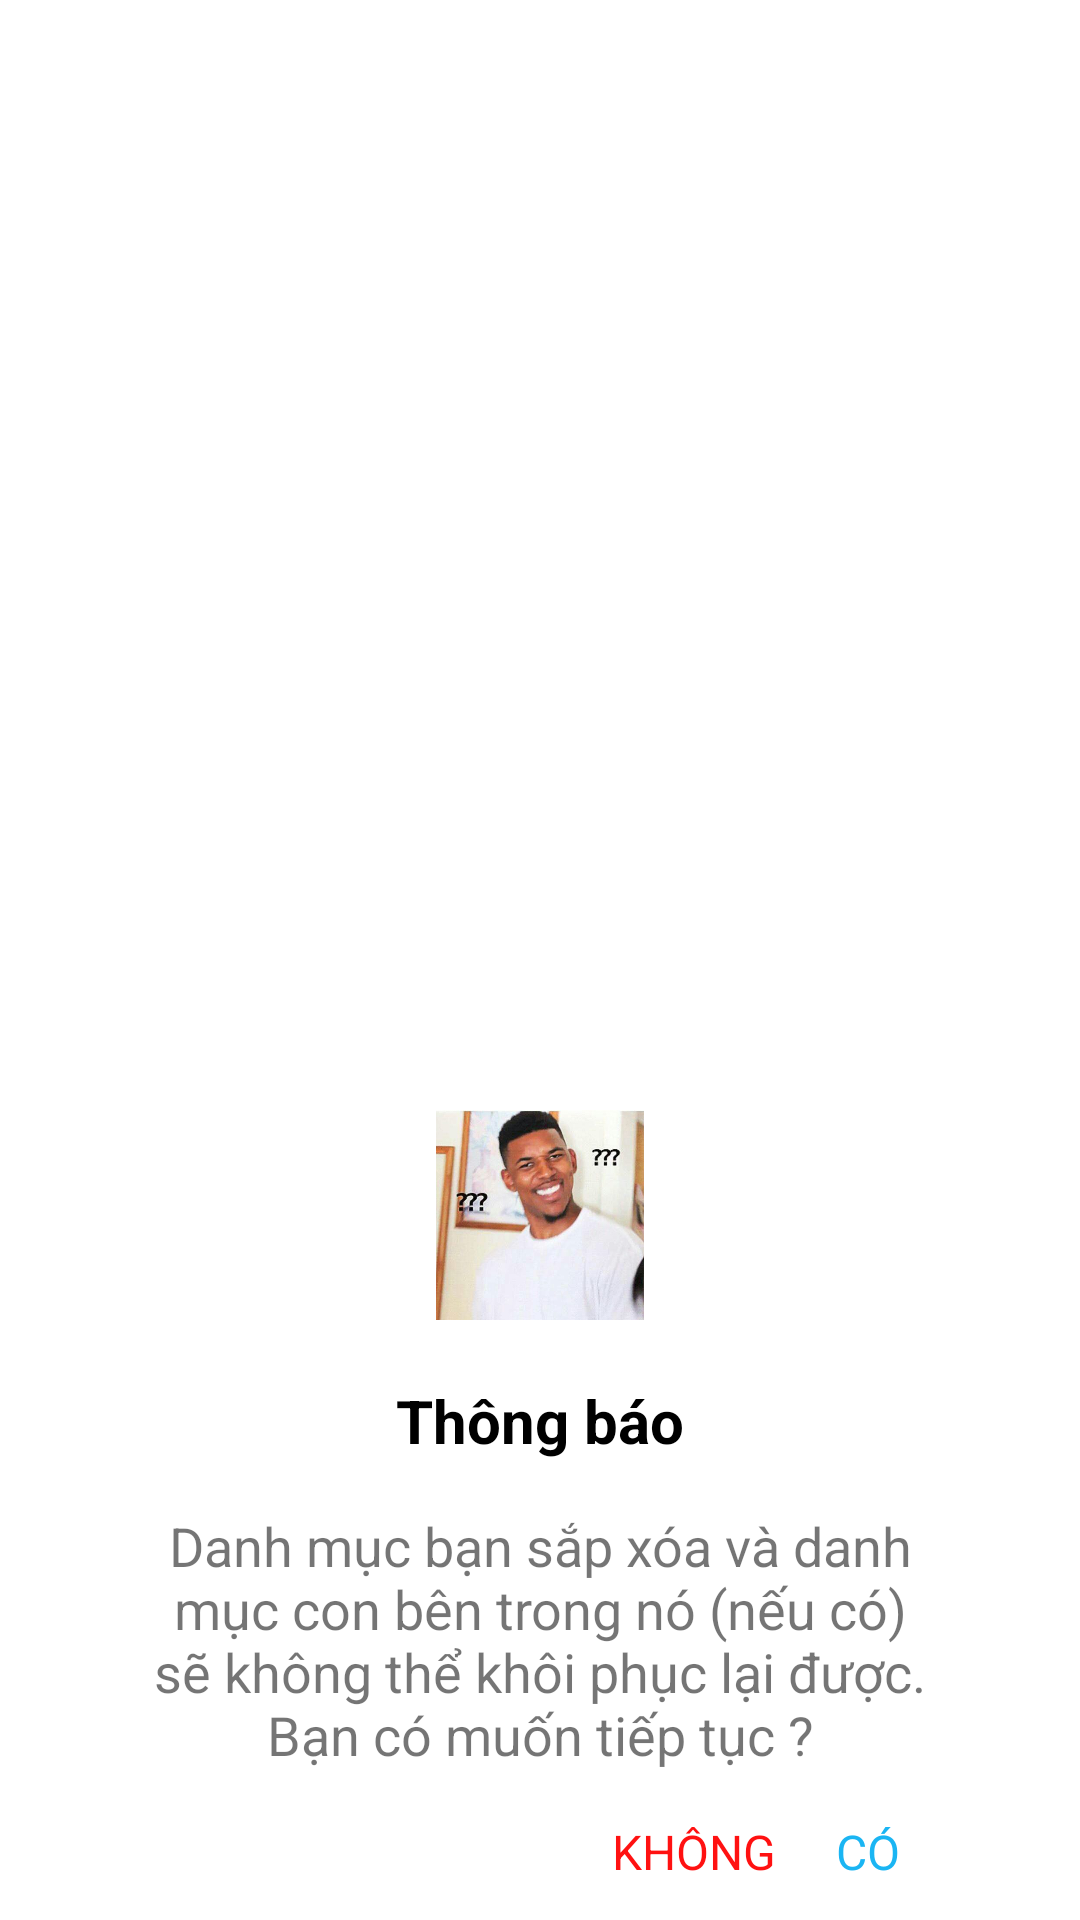

Locate icon controls on the screen. Image size 1080x1920, boxes as Rect(x1, y1, x2, y2).
dontknow: Rect(436, 1110, 644, 1320)
